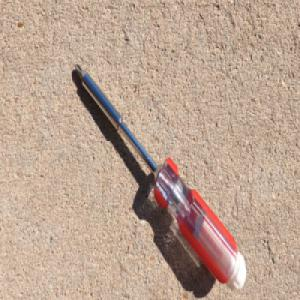Screwdriver: (72, 61, 247, 293)
